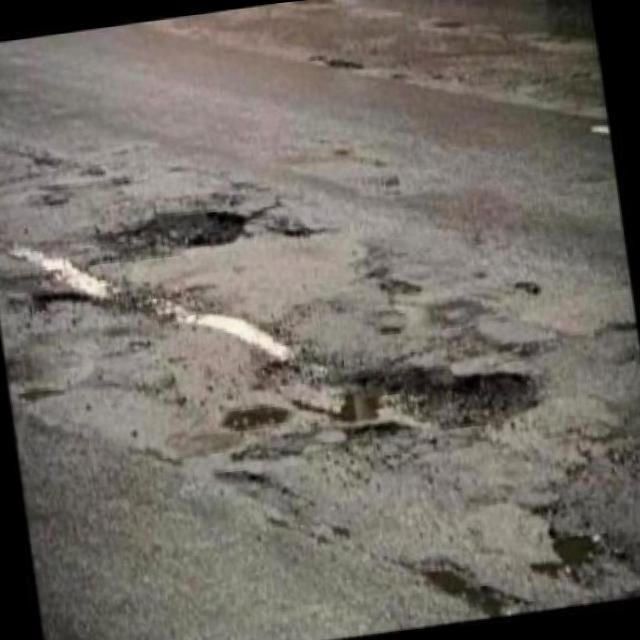Pothole: (293, 366, 536, 426), (94, 210, 247, 262)
